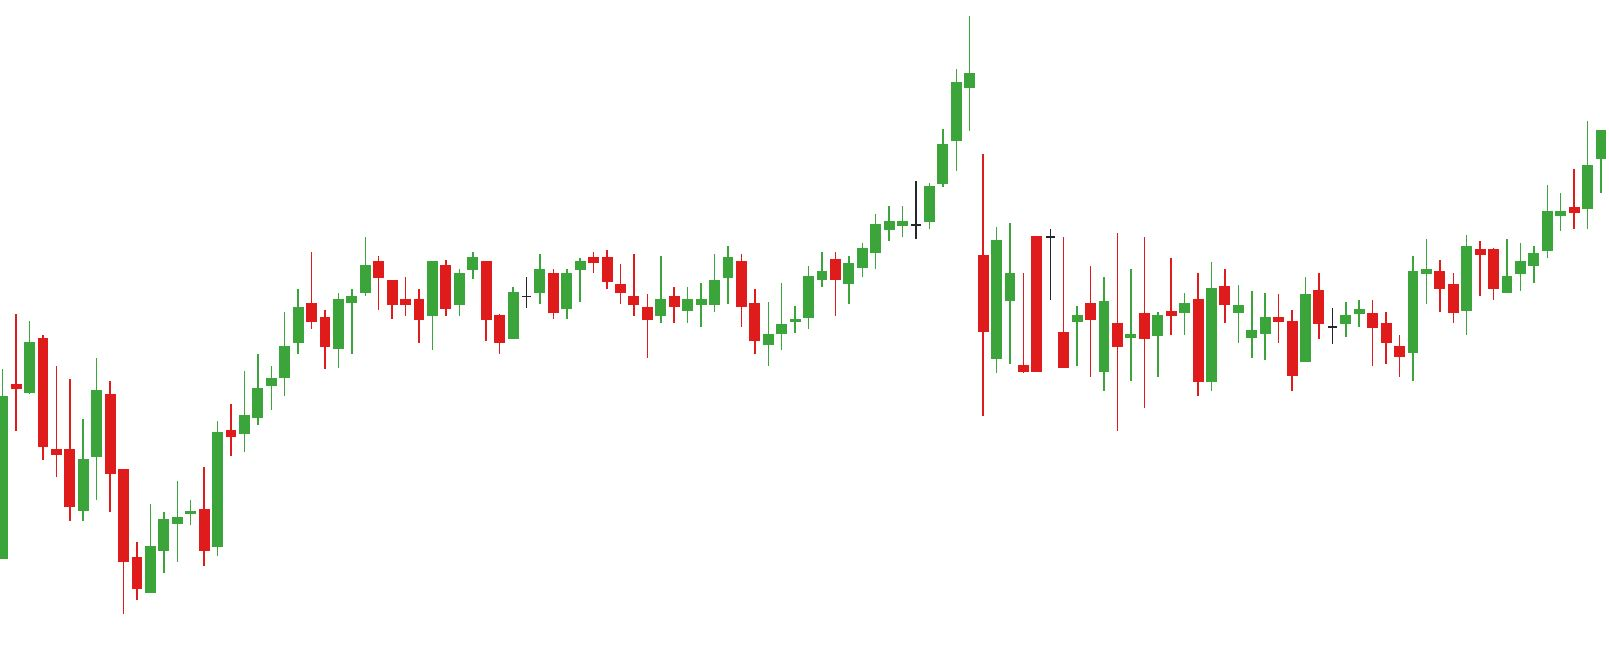buy: (545, 260, 667, 361)
